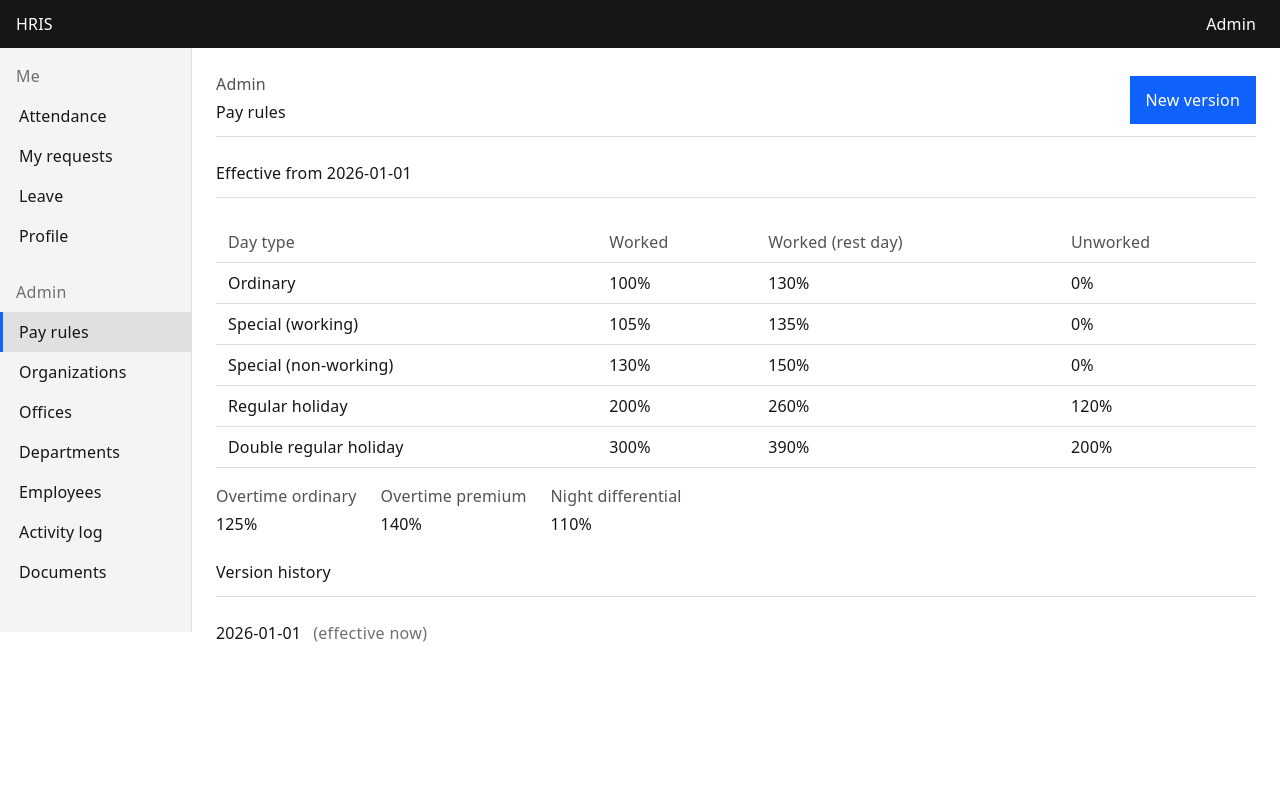
/admin/pay-rules — new version › a 422 pay_rate_below_floor surfaces the violating cell inline
Click the button "New version".
click(1193, 100)  # box x1=1130 y1=76 x2=1256 y2=124
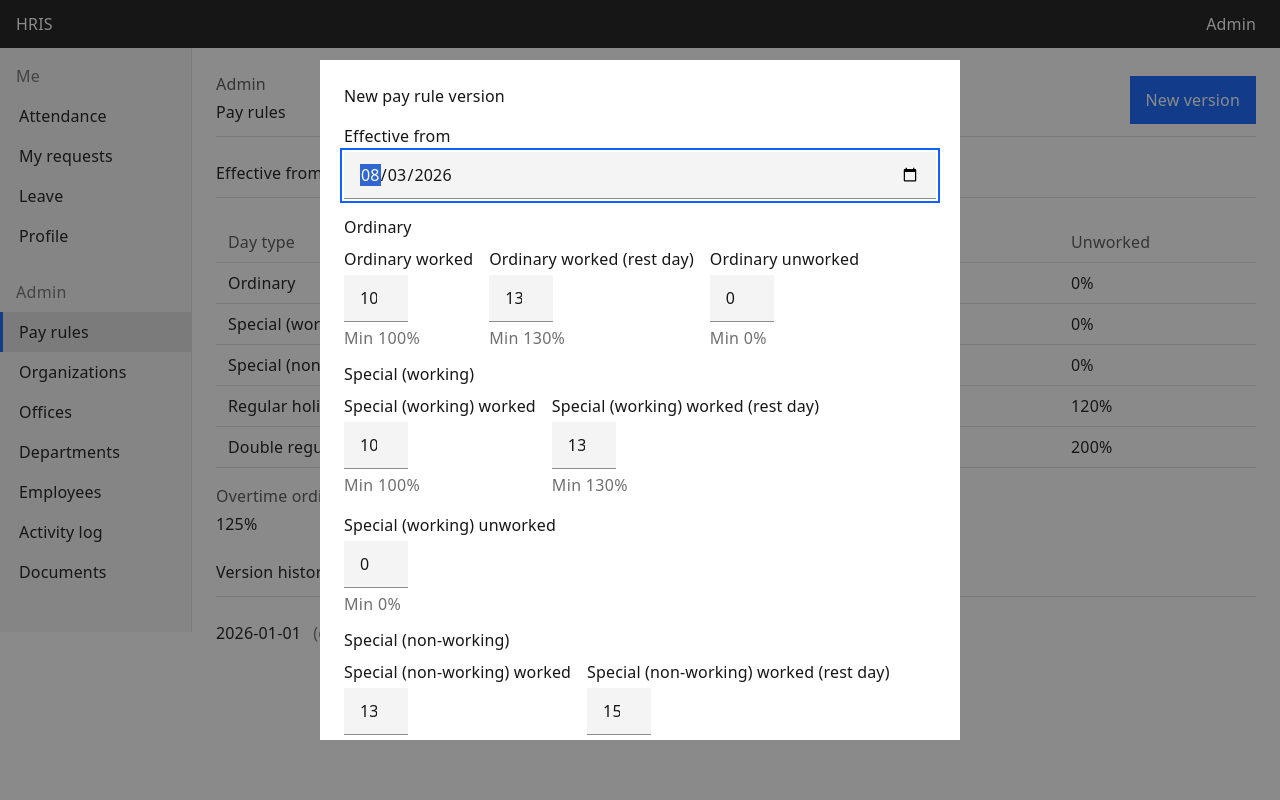
Result: the dialog is shown at x1=320 y1=60 x2=960 y2=740
Type "2026-08-01" into the date field labelled "Effective from".
click(640, 176); type("2026-08-01")  # box x1=344 y1=152 x2=936 y2=199
(page scrolled)
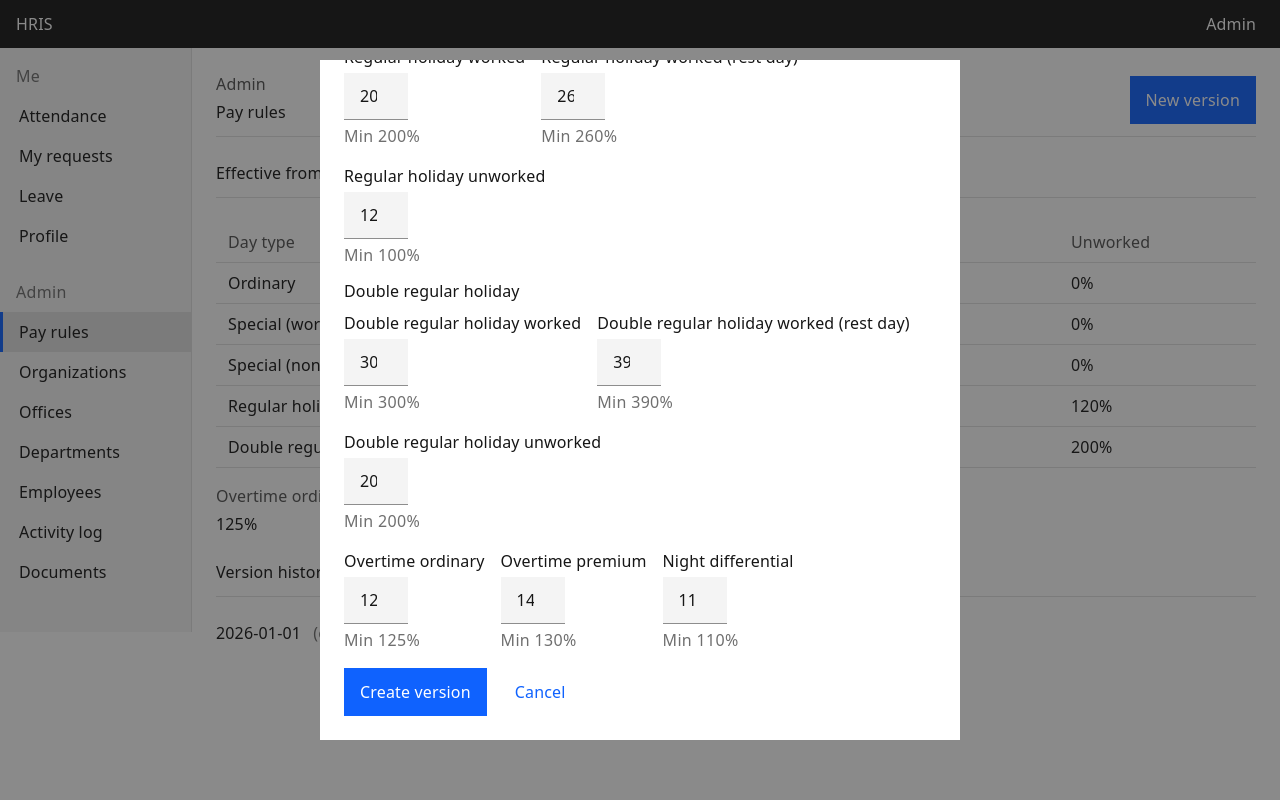
Replace the text in the number field labelled "Night differential" with "100" at (695, 600), box x1=662 y1=577 x2=727 y2=624
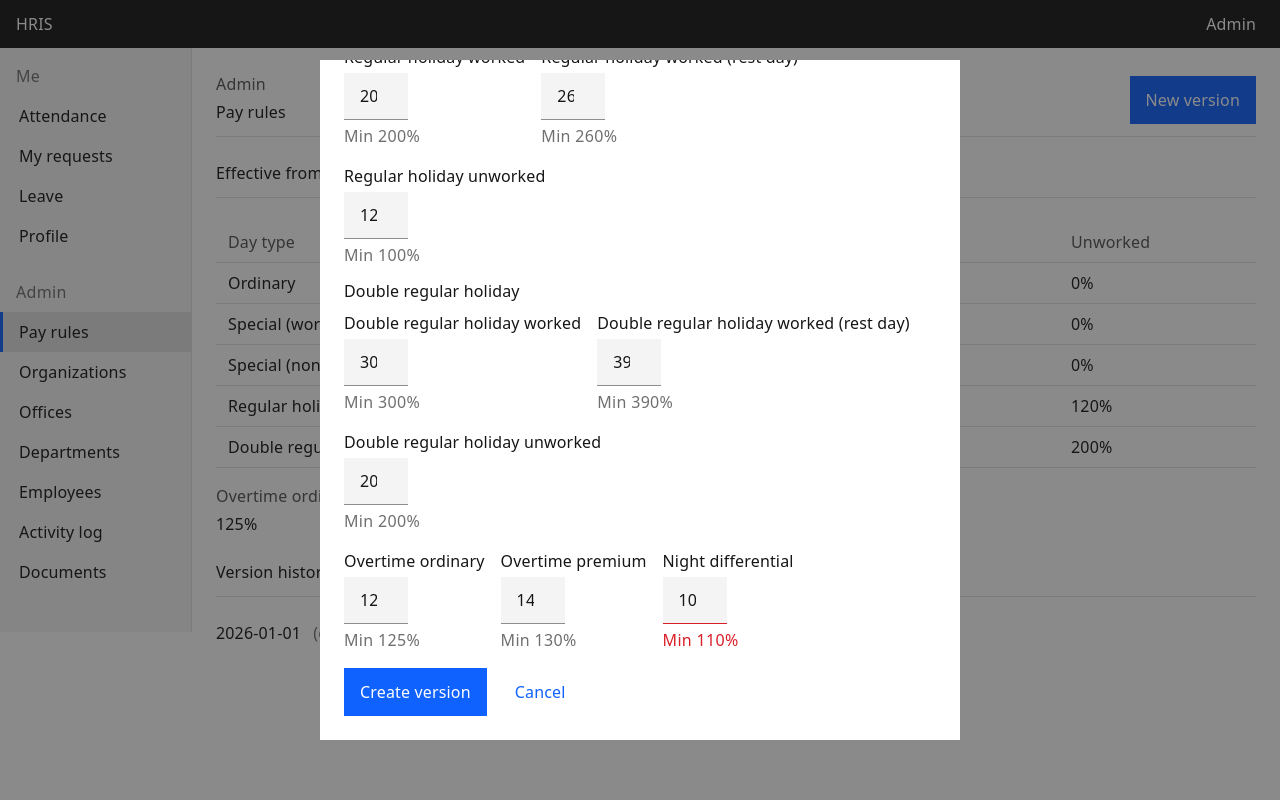
Click the button "Create version".
click(415, 692)  # box x1=344 y1=668 x2=487 y2=716
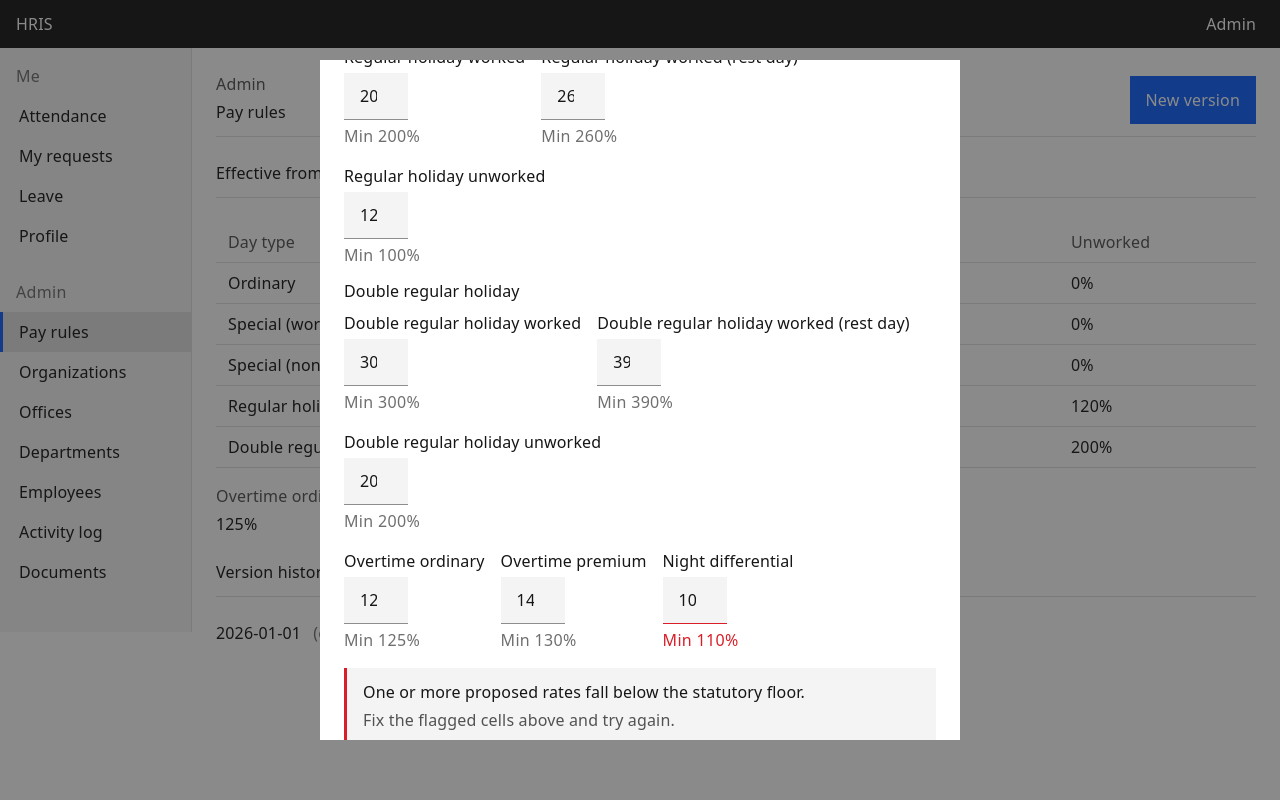
Result: the text "One or more proposed rates fall below the statutory floor." is shown at x1=363 y1=681 x2=805 y2=703
